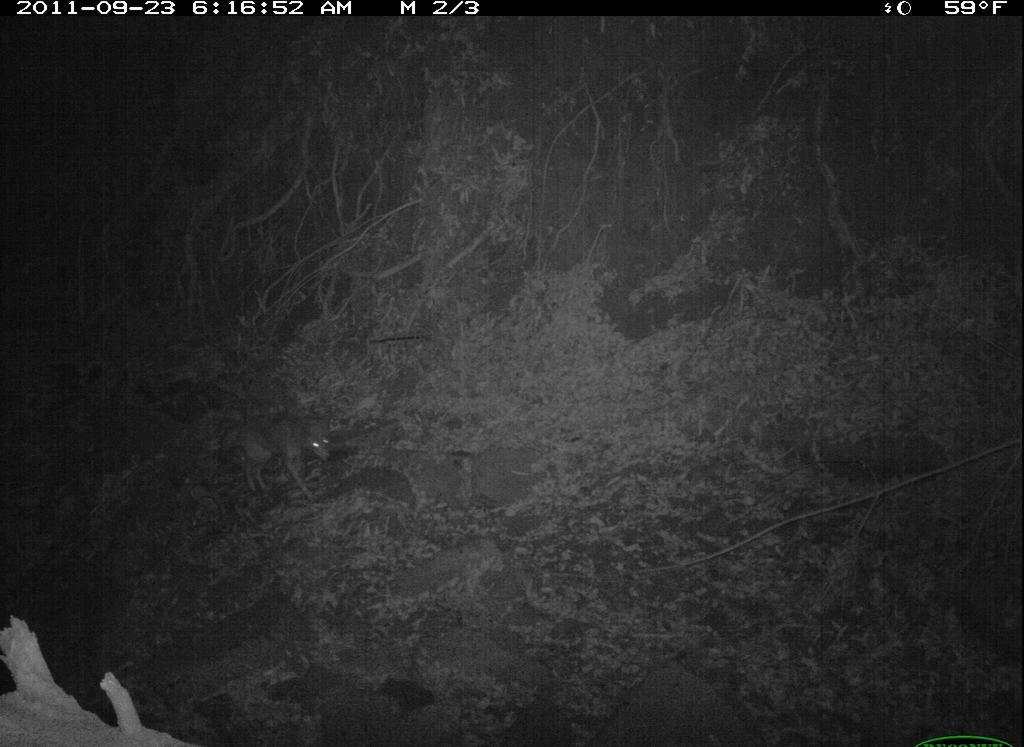coyote: (210, 402, 345, 510)
